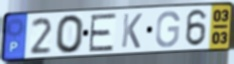2: (30, 16, 54, 56)
6: (183, 8, 209, 48)
E: (87, 11, 119, 53)
G: (154, 9, 181, 49)
K: (120, 12, 144, 50)
O: (55, 13, 86, 55)
